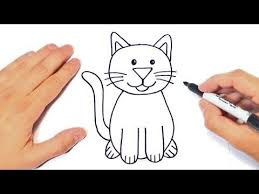cat: (78, 32, 199, 165)
